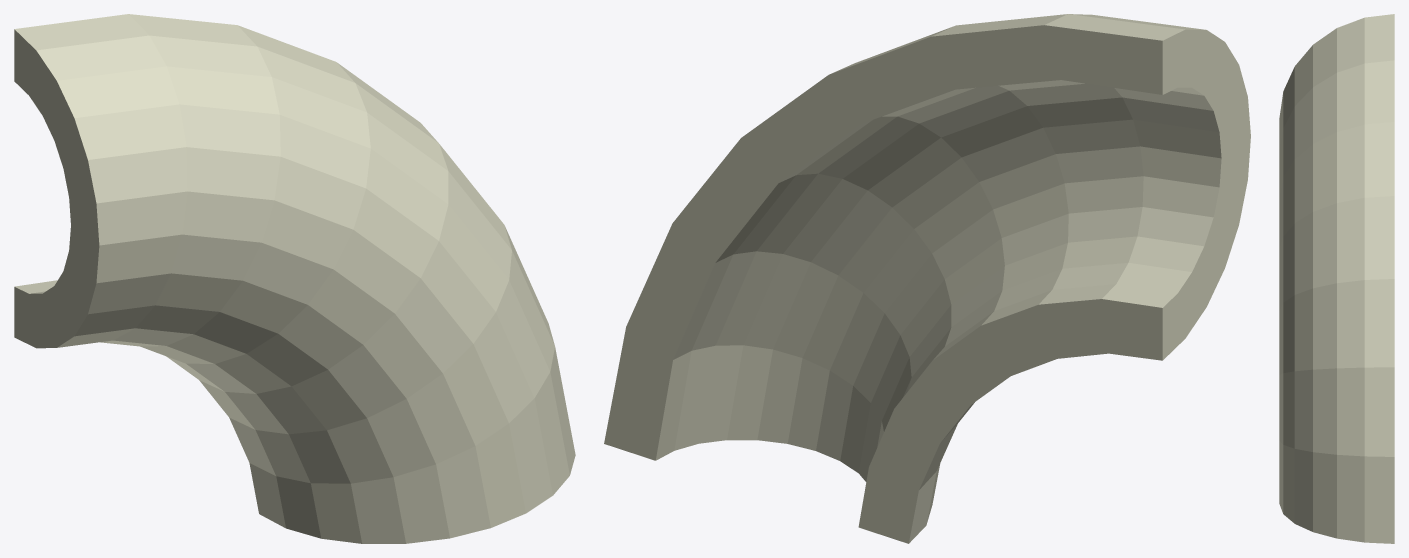
File: section_131.obj
The picture shows the model from 3 angles, left to right: view 1: azimuth 30°, elevation 25°; view 2: azimuth 150°, elevation 25°; view 3: azimuth 270°, elevation 25°; orthographic projection. The views are drawn at different scales.
Bounding box in the file's own units: 10.96 × 10.6 × 3.
